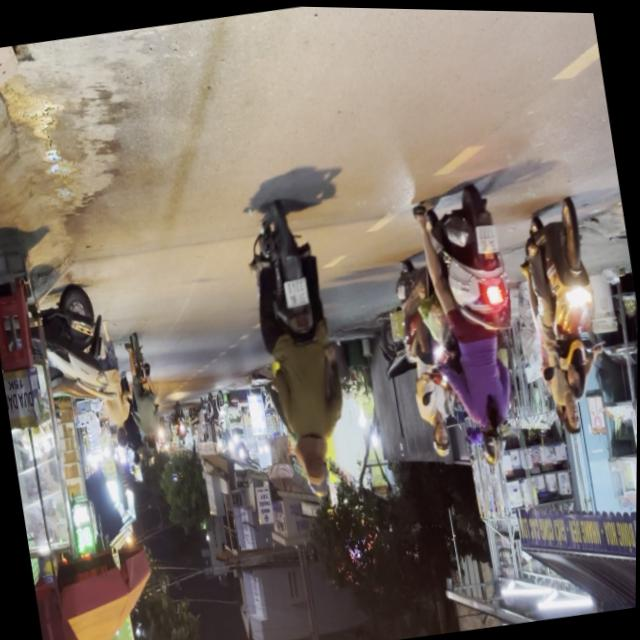helmet: (479, 418, 511, 465), (431, 418, 453, 456)
licenseplate: (409, 175, 541, 473), (238, 195, 362, 502), (509, 192, 620, 442), (387, 249, 466, 461)
motorcyclist: (294, 426, 333, 486), (564, 361, 589, 399), (561, 396, 585, 435)
nohelmet: (284, 277, 310, 306), (475, 223, 500, 253)
